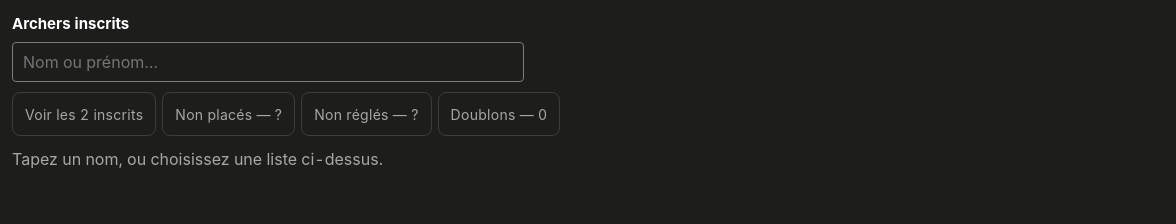
Test: ouverture pilotée par l’adresse › sans élément dans l’adresse, aucune fiche n’est ouverte
Click the button "Voir les 2 inscrits". click: (84, 114)
box: [12,92,156,136]
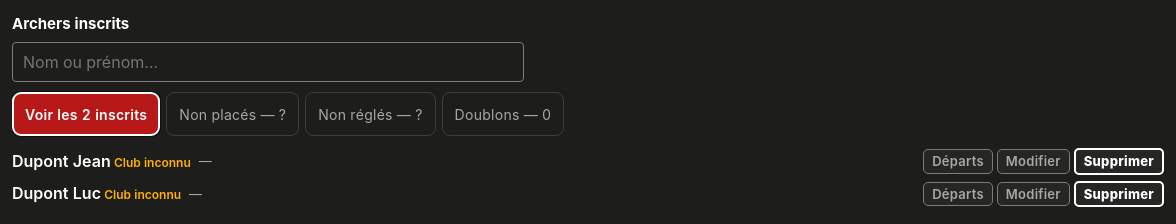
Result: the text "Dupont Jean Club inconnu" is shown at [12,150,191,173]
